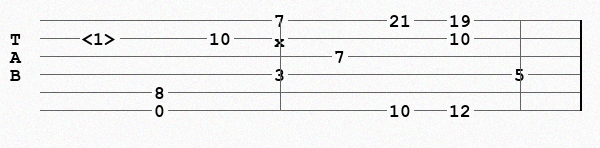0: (154, 102, 169, 118)
10: (209, 30, 235, 46), (389, 102, 415, 118), (449, 30, 475, 46)
12: (449, 102, 475, 118)
19: (449, 12, 475, 28)
21: (389, 12, 415, 28)
3: (274, 66, 289, 82)
5: (514, 66, 529, 82)
7: (274, 12, 289, 28), (334, 48, 349, 64)
8: (154, 84, 169, 100)
harmonic: (82, 30, 121, 46)
x: (274, 32, 289, 44)
